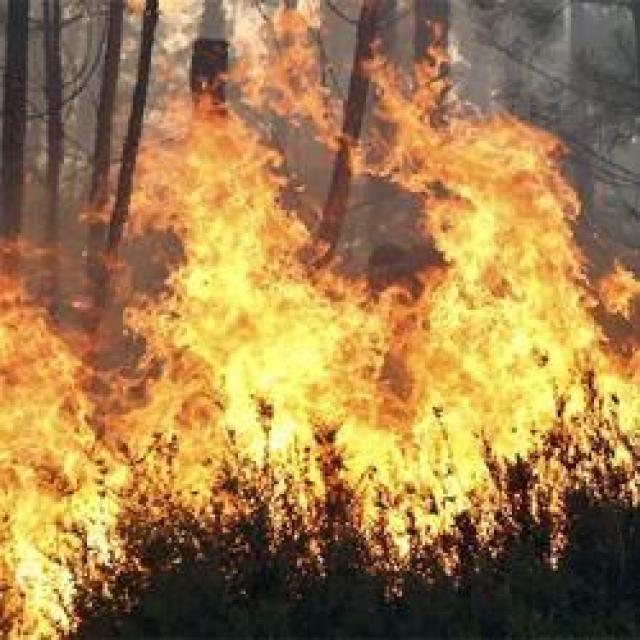fire: (425, 180, 580, 482), (2, 321, 93, 593), (242, 294, 338, 388), (191, 213, 265, 314), (190, 147, 259, 248), (472, 134, 542, 216), (0, 558, 61, 640), (224, 333, 278, 425), (602, 361, 640, 429)
smoke: (535, 5, 640, 79)
